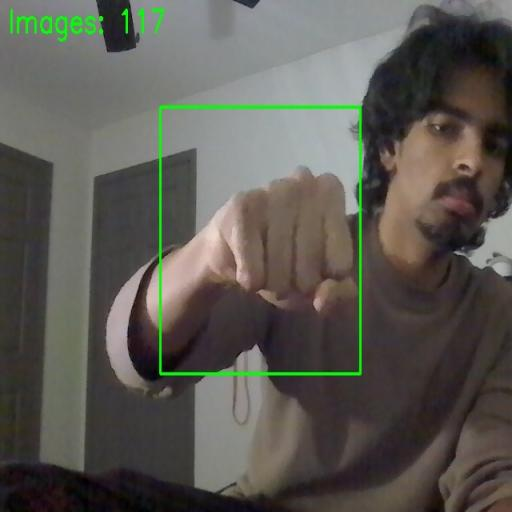backspace: (160, 106, 360, 373)
